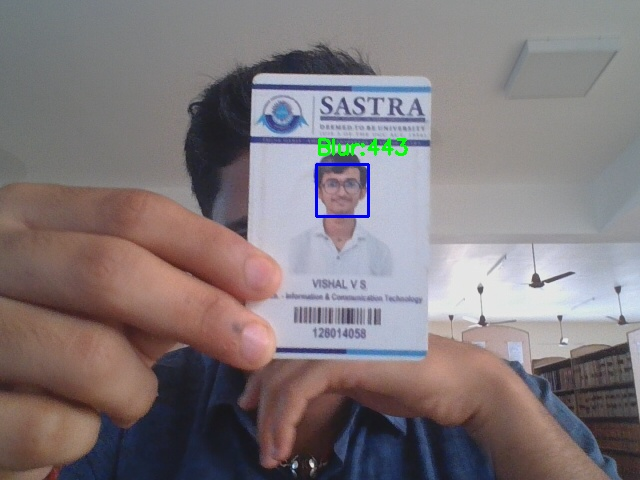fake: (316, 164, 368, 216)
